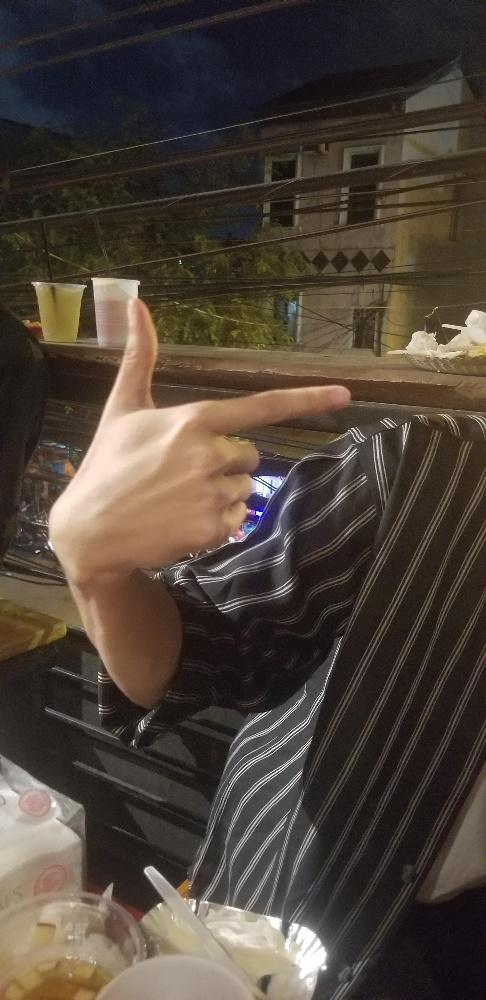g: (44, 295, 347, 574)
